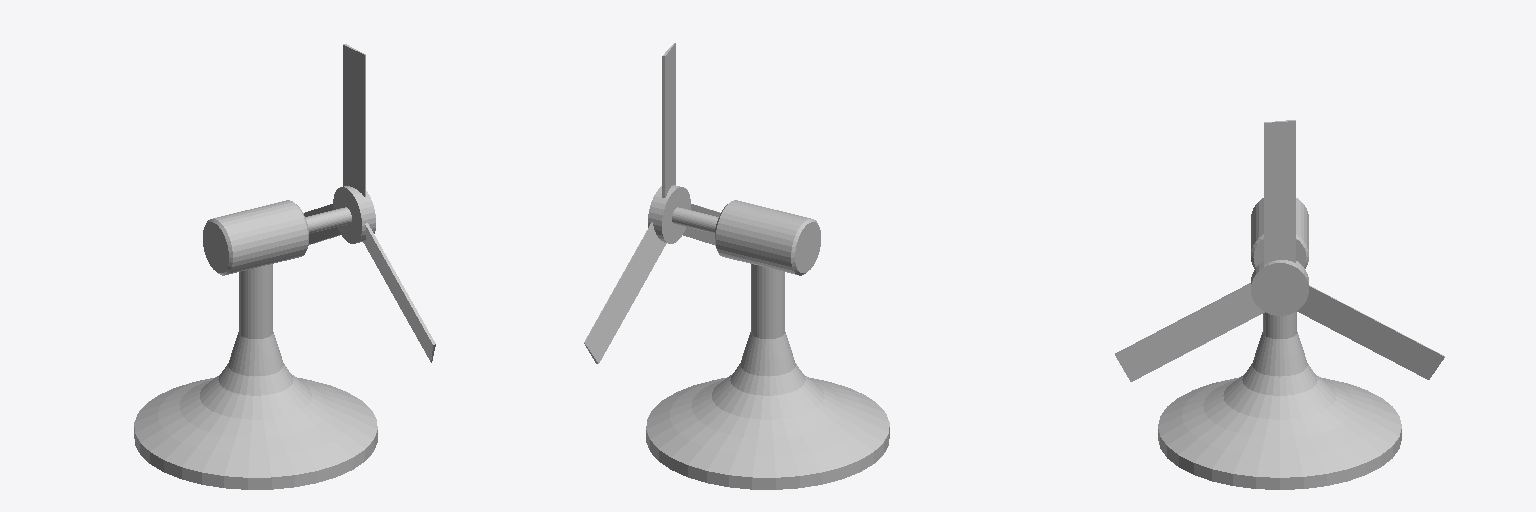
The model's file is wind_turbine.obj.
The picture shows the model from 3 angles: view 1: azimuth 30°, elevation 25°; view 2: azimuth 150°, elevation 25°; view 3: azimuth 270°, elevation 25°; orthographic projection.
Parts seen in each view (by area): view 1: Cylinder, Blades; view 2: Cylinder, Blades; view 3: Cylinder, Blades.
Part boxes in pixels (bbox=[...]): Cylinder: bbox=[134, 186, 377, 489]; Blades: bbox=[304, 44, 435, 362]; Cylinder: bbox=[646, 185, 889, 489]; Blades: bbox=[584, 43, 719, 363]; Cylinder: bbox=[1158, 198, 1401, 489]; Blades: bbox=[1115, 120, 1444, 381].
Bounding box in the file's own units: 1.5 × 2.48 × 2.03.